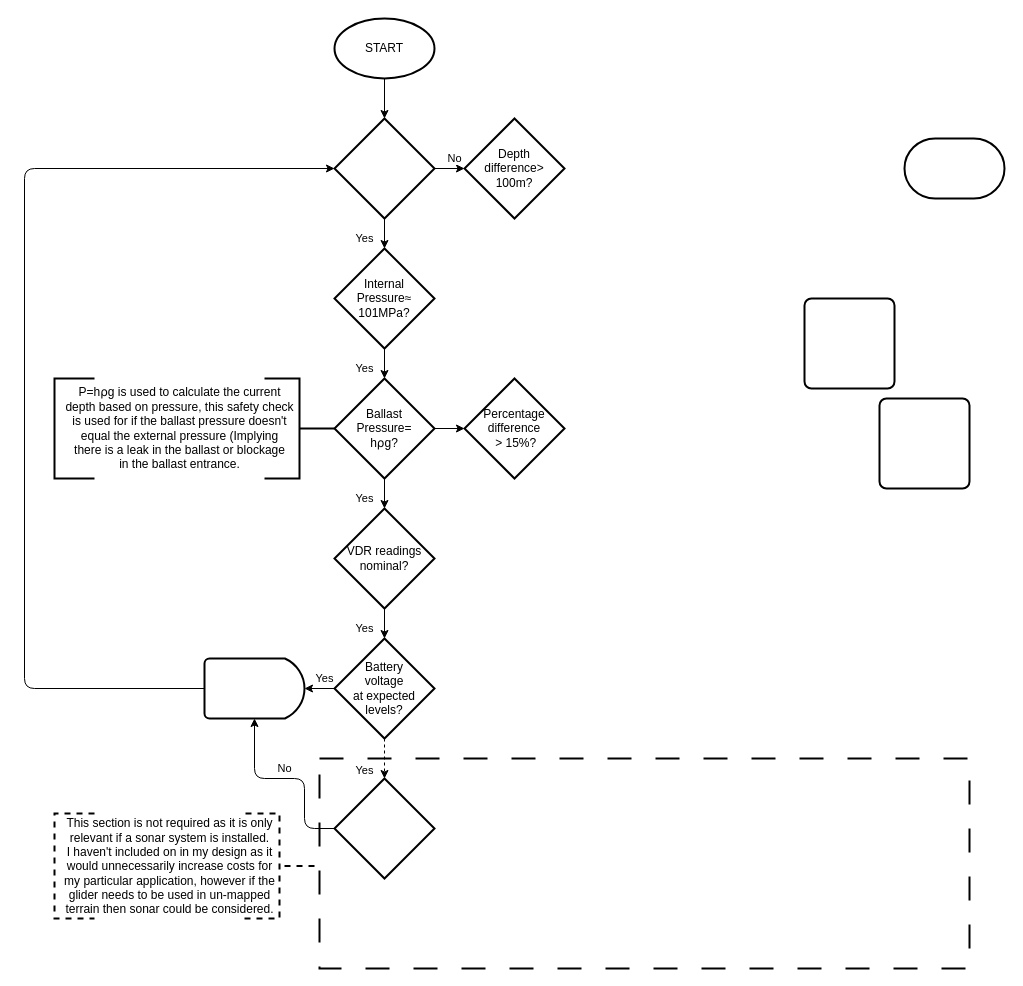
Some shapes in this 1023 by 986 pixel diagram are drawn without their labels. The centre of each missing label's shape, as x and y in pixels:
END: point (954, 168)
Is depth nominal?: point (384, 168)
Sonar detected terrain in path?: point (384, 828)
Wait 1 second: point (254, 688)
